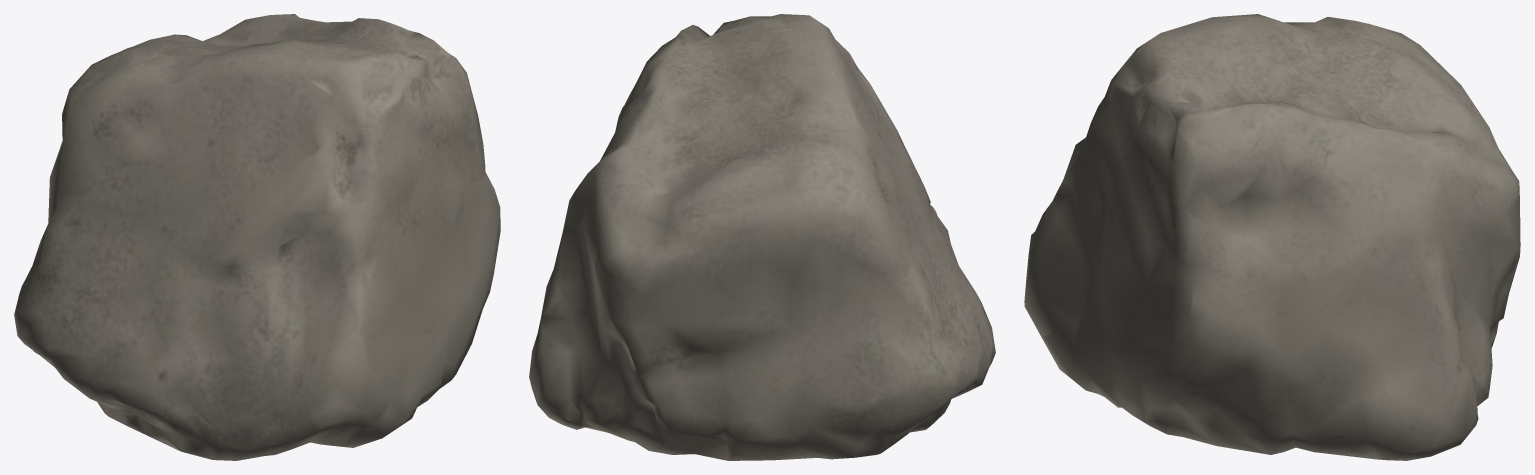
Rendered from moon_rock_02.glb.
3 renders of one model, left to right at view 1: azimuth 30°, elevation 25°; view 2: azimuth 150°, elevation 25°; view 3: azimuth 270°, elevation 25°, orthographic. The views are drawn at different scales.
Parts seen in each view (by area): view 1: moon_rock_02_LOD0; view 2: moon_rock_02_LOD0; view 3: moon_rock_02_LOD0.
Part boxes in pixels (box(x1,y1,x2,y2)): moon_rock_02_LOD0: box(14, 14, 500, 460); moon_rock_02_LOD0: box(529, 14, 995, 460); moon_rock_02_LOD0: box(1024, 14, 1520, 460).
Size of the model in its own units: 0.2452 by 0.2019 by 0.2513.
Materials: 1 (1 with a texture image).
